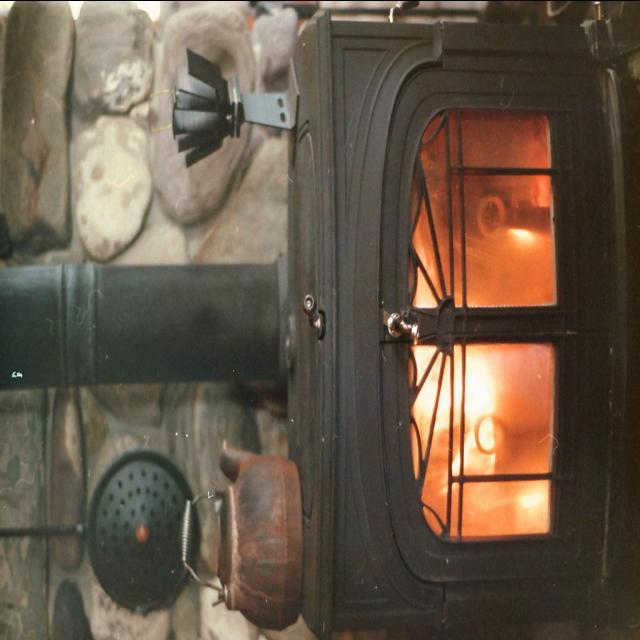Fire: (408, 132, 553, 528)
